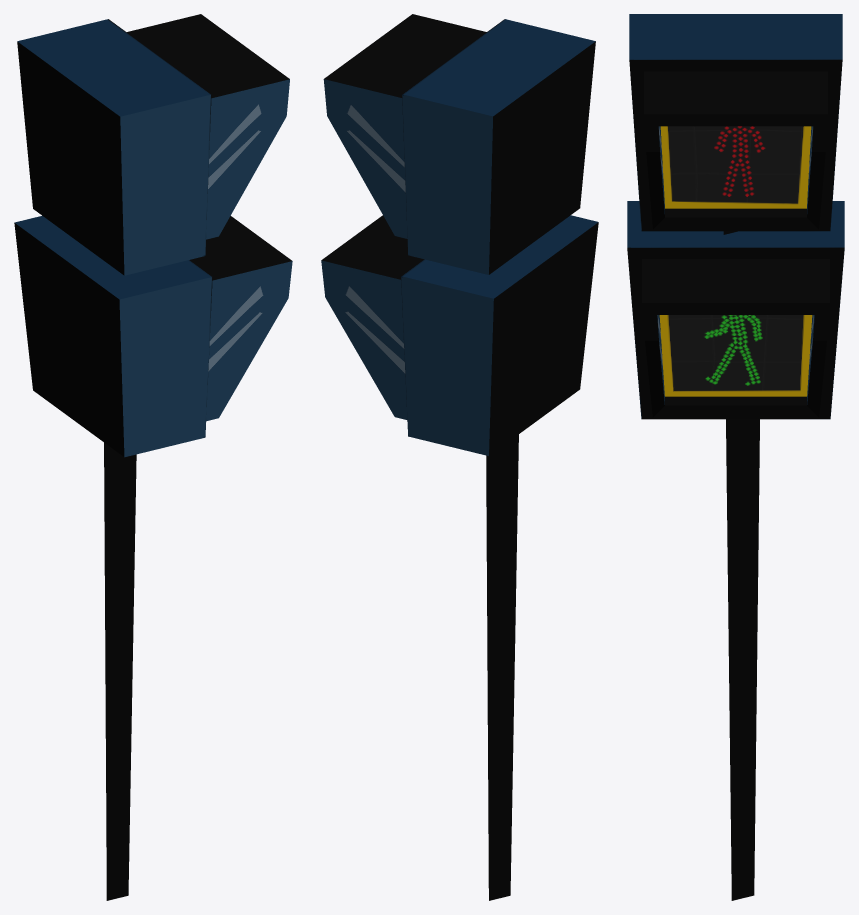
File: PedestrianSignal.fbx
3 views of the same model, side by side, from view 1: azimuth 30°, elevation 25°; view 2: azimuth 150°, elevation 25°; view 3: azimuth 270°, elevation 25° (orthographic). The views are drawn at different scales.
Parts seen in each view (by area): view 1: TODOS:polySurface14; view 2: TODOS:polySurface14; view 3: TODOS:polySurface14.
Boxes of the visible parts, x1=… form: TODOS:polySurface14: x1=14, y1=14, x2=292, y2=900; TODOS:polySurface14: x1=321, y1=14, x2=598, y2=900; TODOS:polySurface14: x1=627, y1=14, x2=844, y2=900.
Bounding box in the file's own units: 1.84 × 8.07 × 1.86.
